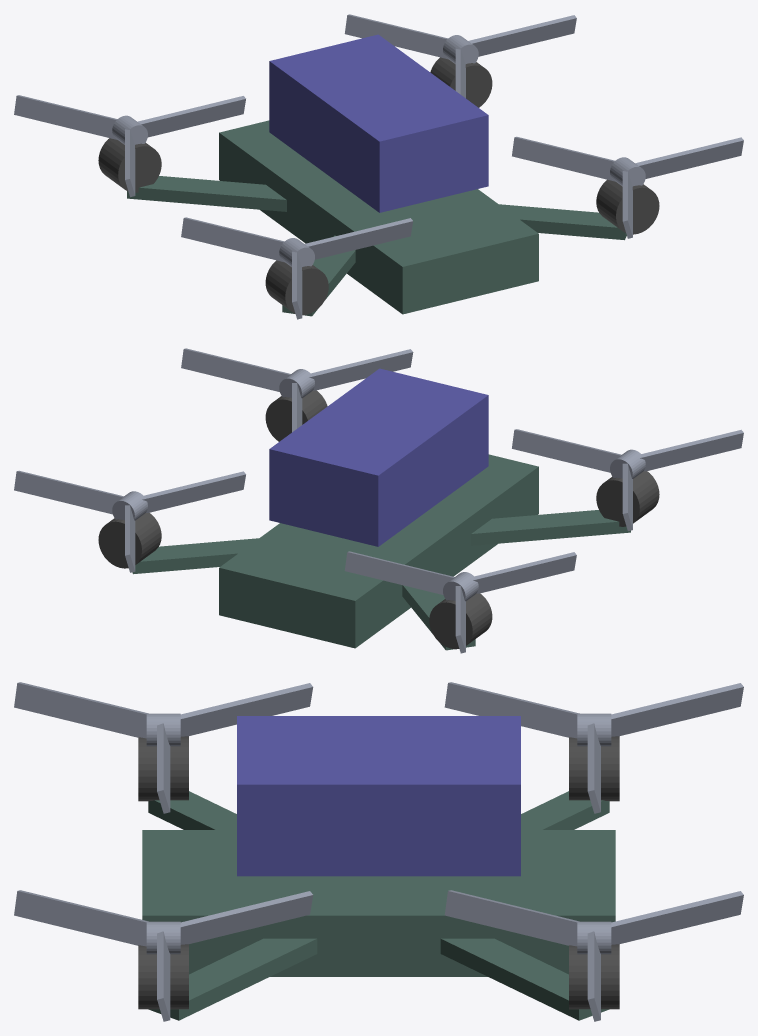
The model's file is Hornet.glb.
3 renders of one model, top to bottom at view 1: azimuth 30°, elevation 25°; view 2: azimuth 150°, elevation 25°; view 3: azimuth 270°, elevation 25°, orthographic. The views are drawn at different scales.
Parts seen in each view (by area): view 1: battery, frame_body, prop_2, prop_3, prop_0, prop_1, arm_3, arm_0, motor_0, motor_2, motor_3, motor_1 (+1 smaller); view 2: battery, frame_body, prop_1, prop_3, prop_2, prop_0, arm_2, arm_1, motor_1, motor_3, motor_2, motor_0 (+1 smaller); view 3: battery, frame_body, prop_0, prop_1, prop_2, prop_3, arm_1, arm_0, motor_0, motor_1, motor_2, motor_3 (+2 smaller).
Boxes of the visible parts, left/top/right/bottom form: battery: left=269, top=34, right=488, bottom=212; frame_body: left=219, top=120, right=538, bottom=314; prop_2: left=181, top=217, right=413, bottom=319; prop_3: left=14, top=95, right=245, bottom=197; prop_0: left=512, top=136, right=743, bottom=238; prop_1: left=344, top=14, right=576, bottom=98; arm_3: left=127, top=176, right=286, bottom=211; arm_0: left=499, top=204, right=626, bottom=240; motor_0: left=596, top=179, right=659, bottom=234; motor_2: left=265, top=260, right=328, bottom=315; motor_3: left=98, top=138, right=161, bottom=192; motor_1: left=430, top=57, right=492, bottom=107; battery: left=269, top=368, right=488, bottom=546; frame_body: left=219, top=454, right=538, bottom=648; prop_1: left=14, top=470, right=245, bottom=572; prop_3: left=344, top=551, right=576, bottom=653; prop_2: left=512, top=429, right=743, bottom=530; prop_0: left=181, top=348, right=413, bottom=432; arm_2: left=471, top=510, right=630, bottom=545; arm_1: left=132, top=538, right=258, bottom=574; motor_1: left=98, top=512, right=161, bottom=568; motor_3: left=429, top=593, right=492, bottom=649; motor_2: left=596, top=471, right=659, bottom=526; motor_0: left=265, top=390, right=327, bottom=441; battery: left=237, top=716, right=520, bottom=876; frame_body: left=142, top=830, right=615, bottom=976; prop_0: left=14, top=890, right=313, bottom=1021; prop_1: left=444, top=890, right=743, bottom=1021; prop_2: left=14, top=682, right=313, bottom=813; prop_3: left=444, top=682, right=743, bottom=813; arm_1: left=440, top=938, right=609, bottom=1020; arm_0: left=148, top=938, right=317, bottom=1020; motor_0: left=138, top=944, right=188, bottom=1009; motor_1: left=569, top=944, right=619, bottom=1009; motor_2: left=138, top=736, right=188, bottom=801; motor_3: left=569, top=736, right=619, bottom=801.
Bounding box in the file's own units: 0.2223 × 0.06 × 0.2159.
